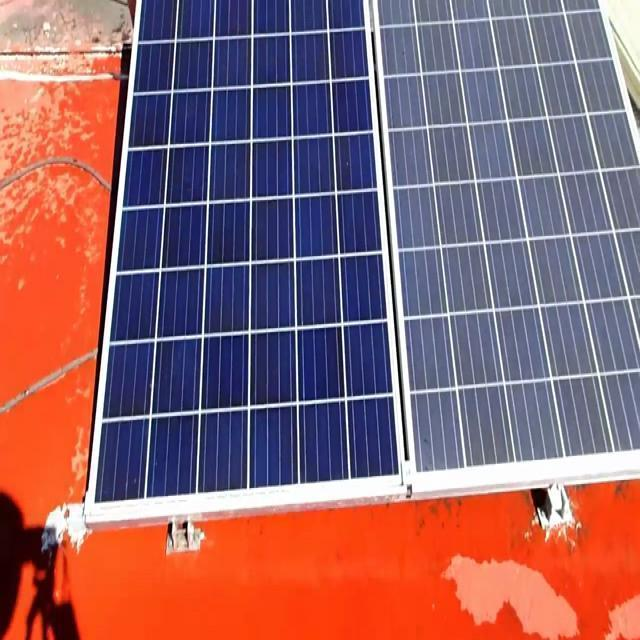Normal Solar Panel: (91, 1, 399, 504)
